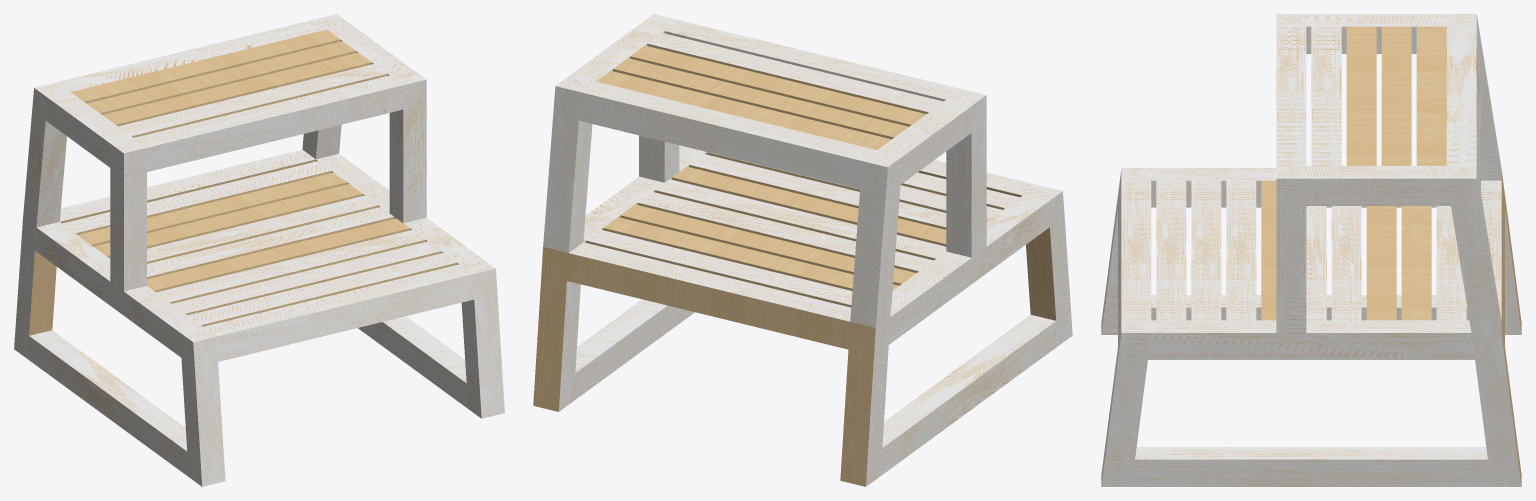
File: ikea_stool.min.dae
3 renders of one model, left to right at view 1: azimuth 30°, elevation 25°; view 2: azimuth 150°, elevation 25°; view 3: azimuth 270°, elevation 25°, orthographic. The views are drawn at different scales.
Parts seen in each view (by area): view 1: SketchUp; view 2: SketchUp; view 3: SketchUp.
Part boxes in pixels (left/top/right/bottom): SketchUp: left=14, top=14, right=504, bottom=486; SketchUp: left=533, top=14, right=1072, bottom=486; SketchUp: left=1101, top=14, right=1521, bottom=486.
Bounding box in the file's own units: 15.35 × 16.54 × 13.39.
2 materials, 1 textured.
